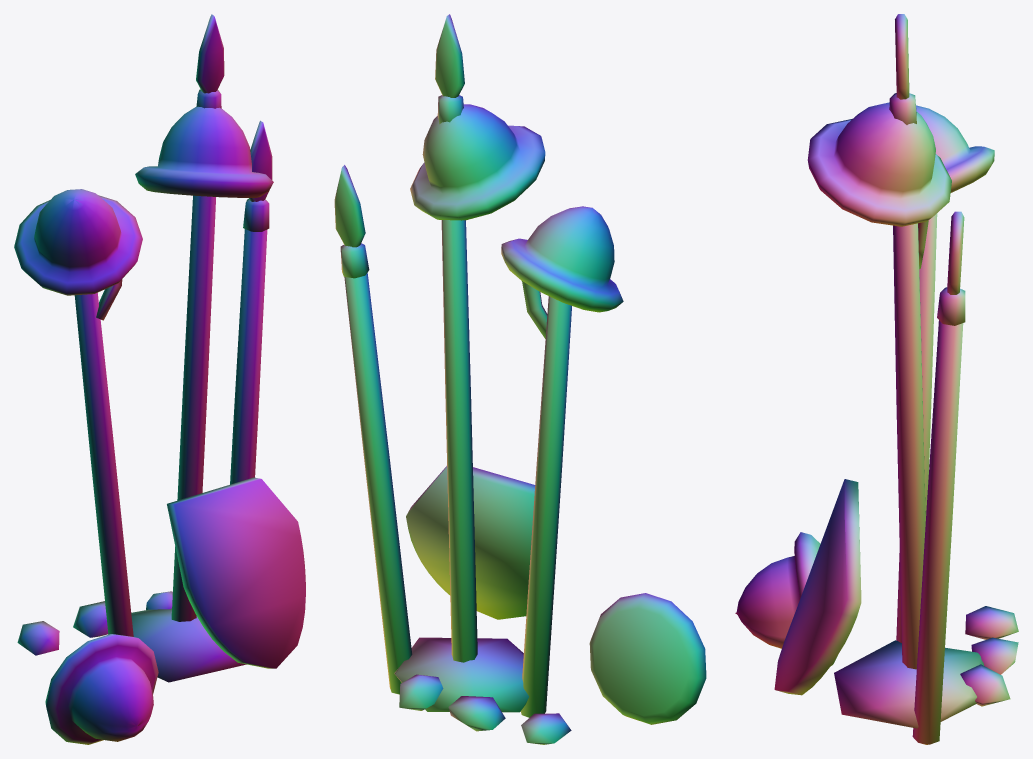
File: SM_Prop_March_HelmetStake_B_LOD1.fbx
3 views of the same model, side by side, from view 1: azimuth 30°, elevation 25°; view 2: azimuth 150°, elevation 25°; view 3: azimuth 270°, elevation 25° (orthographic). The views are drawn at different scales.
Parts seen in each view (by area): view 1: SM_Prop_March_HelmetStake_B_LOD1; view 2: SM_Prop_March_HelmetStake_B_LOD1; view 3: SM_Prop_March_HelmetStake_B_LOD1.
Part boxes in pixels (<box>): SM_Prop_March_HelmetStake_B_LOD1: <box>14,14,305,744</box>; SM_Prop_March_HelmetStake_B_LOD1: <box>334,14,706,744</box>; SM_Prop_March_HelmetStake_B_LOD1: <box>735,14,1018,744</box>.
Bounding box in the file's own units: 1.02 × 2.24 × 0.7885.
